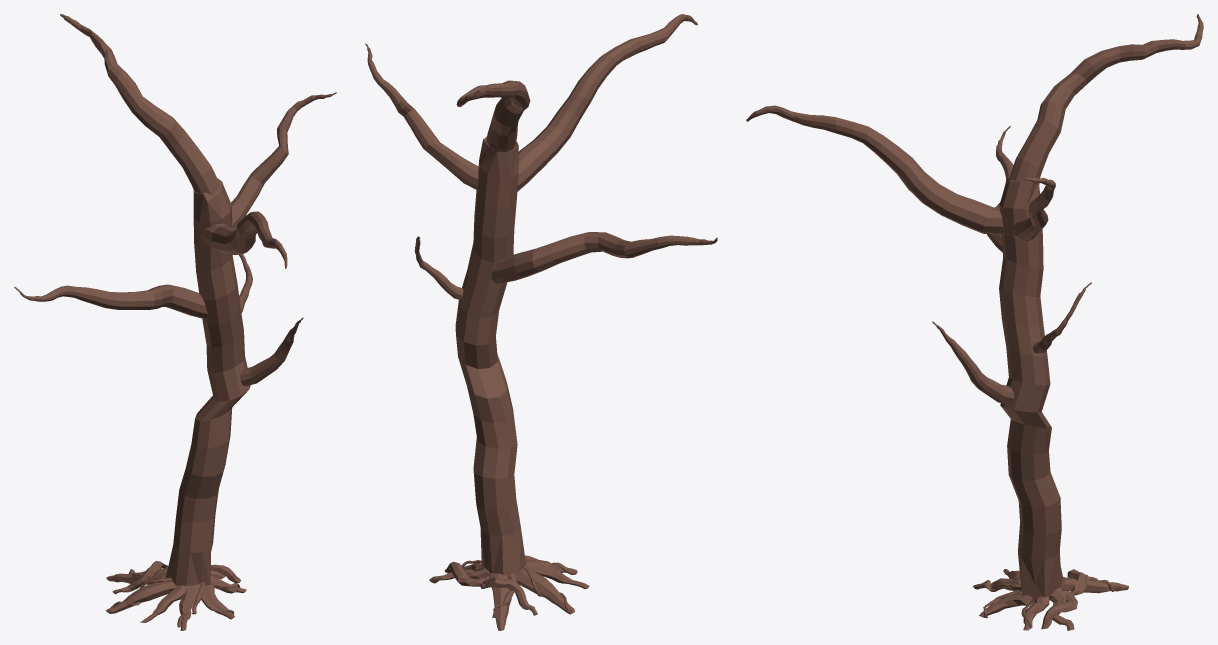
File: tree_bald.fbx
3 renders of one model, left to right at view 1: azimuth 30°, elevation 25°; view 2: azimuth 150°, elevation 25°; view 3: azimuth 270°, elevation 25°, orthographic. The views are drawn at different scales.
Visible parts, largest first — view 1: group_138677575, group_1192147029, group_1491153128, group_2097682607, group_1792167676, group_706069631, group_614990179, group_1563283124, group_1908788063, group_1563149649; view 2: group_138677575, group_1792167676, group_1491153128, group_1192147029, group_2097682607, group_614990179, group_2062235303, group_1563149649, group_58379250, group_1908788063; view 3: group_138677575, group_1792167676, group_1192147029, group_2097682607, group_706069631.
Part boxes in pixels (x1=…): group_138677575: x1=166, y1=178, x2=250, y2=586; group_1192147029: x1=60, y1=14, x2=220, y2=195; group_1491153128: x1=14, y1=284, x2=208, y2=318; group_2097682607: x1=231, y1=92, x2=336, y2=228; group_1792167676: x1=200, y1=211, x2=287, y2=268; group_706069631: x1=240, y1=317, x2=303, y2=386; group_614990179: x1=106, y1=581, x2=176, y2=613; group_1563283124: x1=179, y1=583, x2=200, y2=630; group_1908788063: x1=140, y1=585, x2=188, y2=622; group_1563149649: x1=112, y1=561, x2=168, y2=594; group_138677575: x1=455, y1=136, x2=525, y2=575; group_1792167676: x1=517, y1=14, x2=697, y2=191; group_1491153128: x1=491, y1=232, x2=717, y2=283; group_1192147029: x1=456, y1=80, x2=530, y2=151; group_2097682607: x1=365, y1=43, x2=478, y2=189; group_614990179: x1=516, y1=568, x2=575, y2=614; group_2062235303: x1=414, y1=236, x2=463, y2=299; group_1563149649: x1=479, y1=576, x2=537, y2=615; group_58379250: x1=489, y1=573, x2=511, y2=630; group_1908788063: x1=525, y1=560, x2=589, y2=588; group_138677575: x1=999, y1=178, x2=1062, y2=598; group_1792167676: x1=746, y1=105, x2=1003, y2=234; group_1192147029: x1=1009, y1=14, x2=1203, y2=180; group_2097682607: x1=1012, y1=178, x2=1055, y2=241; group_706069631: x1=932, y1=321, x2=1013, y2=403.
Size of the model in its own units: 262 by 414 by 302.
